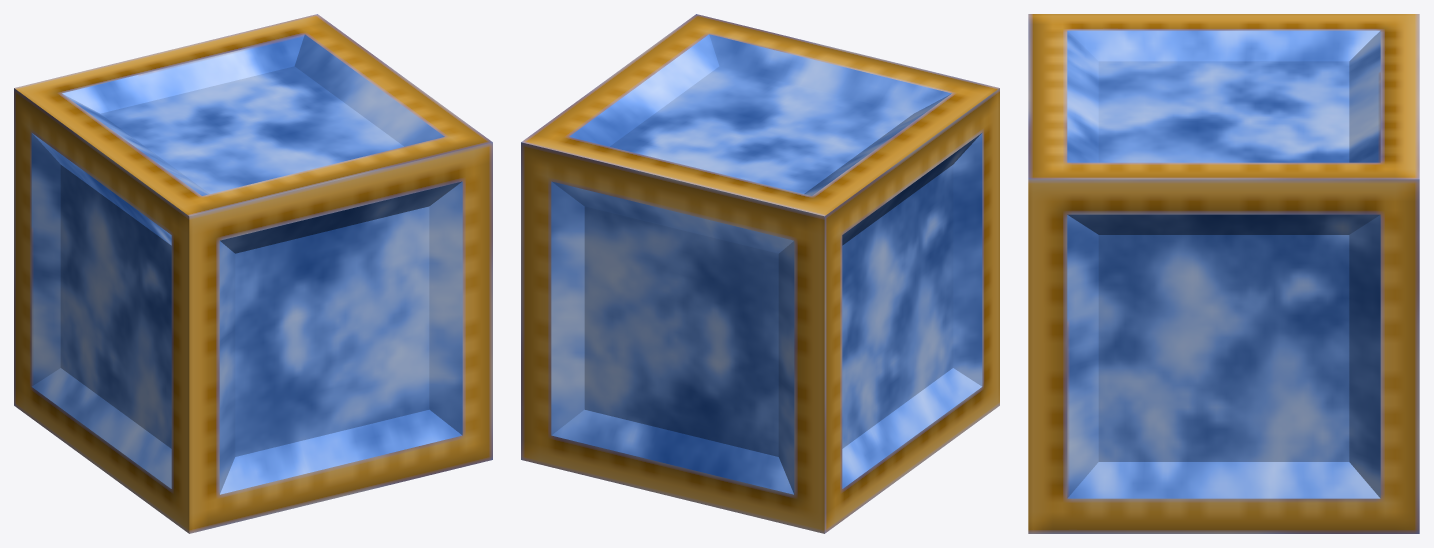
File: Black.obj
3 renders of one model, left to right at view 1: azimuth 30°, elevation 25°; view 2: azimuth 150°, elevation 25°; view 3: azimuth 270°, elevation 25°, orthographic. The views are drawn at different scales.
Visible parts, largest first — view 1: Cube_Cube.001; view 2: Cube_Cube.001; view 3: Cube_Cube.001.
Part boxes in pixels (x1=…): Cube_Cube.001: x1=14, y1=14, x2=492, y2=533; Cube_Cube.001: x1=521, y1=14, x2=999, y2=533; Cube_Cube.001: x1=1028, y1=14, x2=1419, y2=533.
Size of the model in its own units: 2 by 2 by 2.
